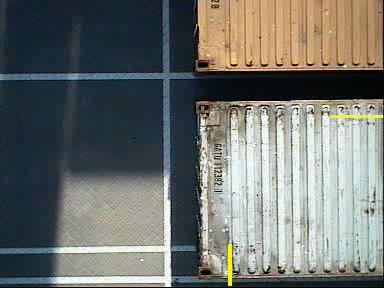groundmarker_2: (92, 141, 201, 213)
